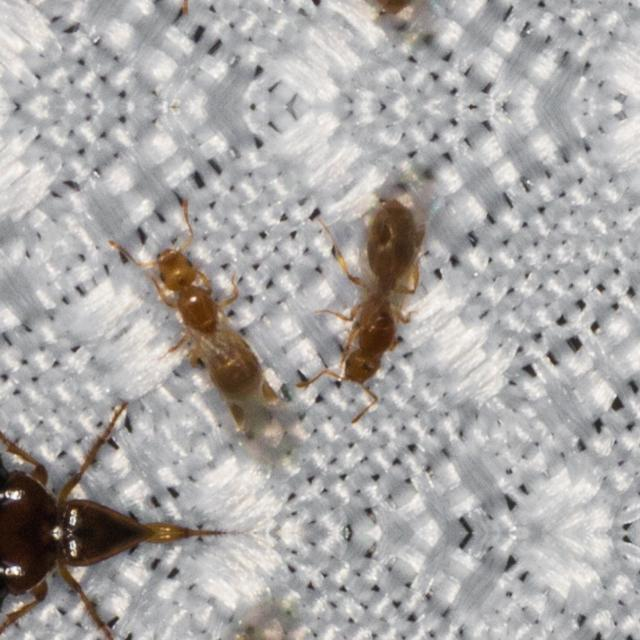Temnothorax: (134, 214, 288, 406), (325, 185, 443, 405)
